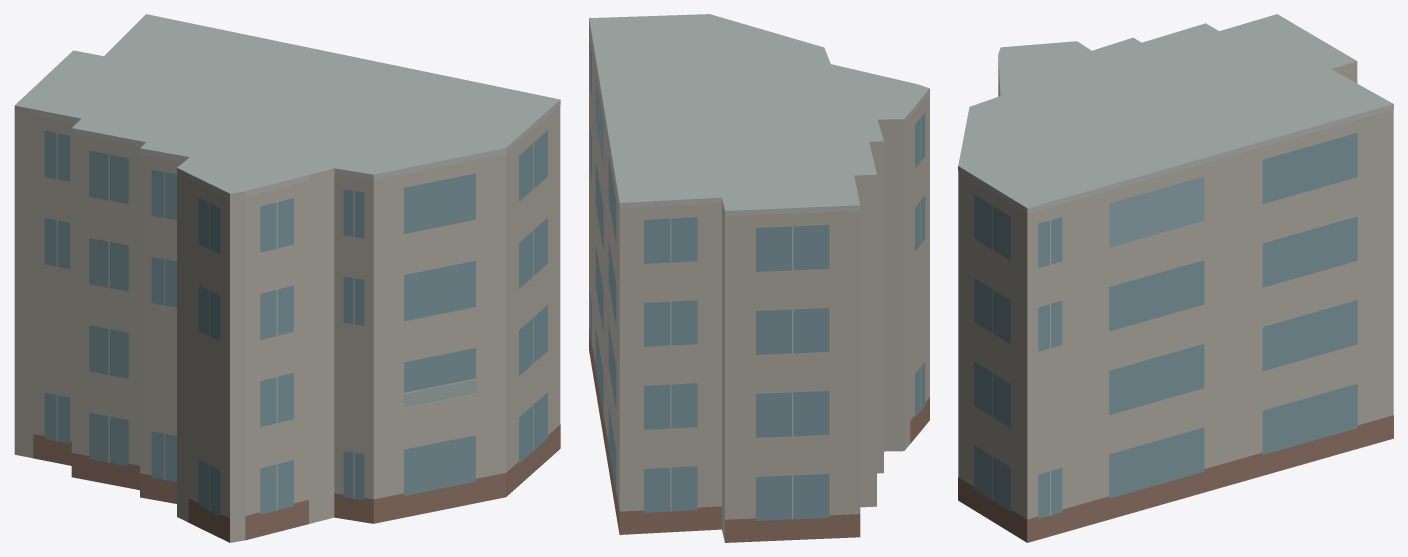
The model's file is survey-upis-32491521.glb.
3 renders of one model, left to right at view 1: azimuth 30°, elevation 25°; view 2: azimuth 150°, elevation 25°; view 3: azimuth 270°, elevation 25°, orthographic. The views are drawn at different scales.
Visible parts, largest first — view 1: survey-upis-32491521.tmp; view 2: survey-upis-32491521.tmp; view 3: survey-upis-32491521.tmp.
Boxes of the visible parts, x1=… form: survey-upis-32491521.tmp: x1=14, y1=14, x2=560, y2=542; survey-upis-32491521.tmp: x1=589, y1=14, x2=929, y2=542; survey-upis-32491521.tmp: x1=958, y1=14, x2=1393, y2=542.
Size of the model in its own units: 18.69 by 15 by 17.71.
